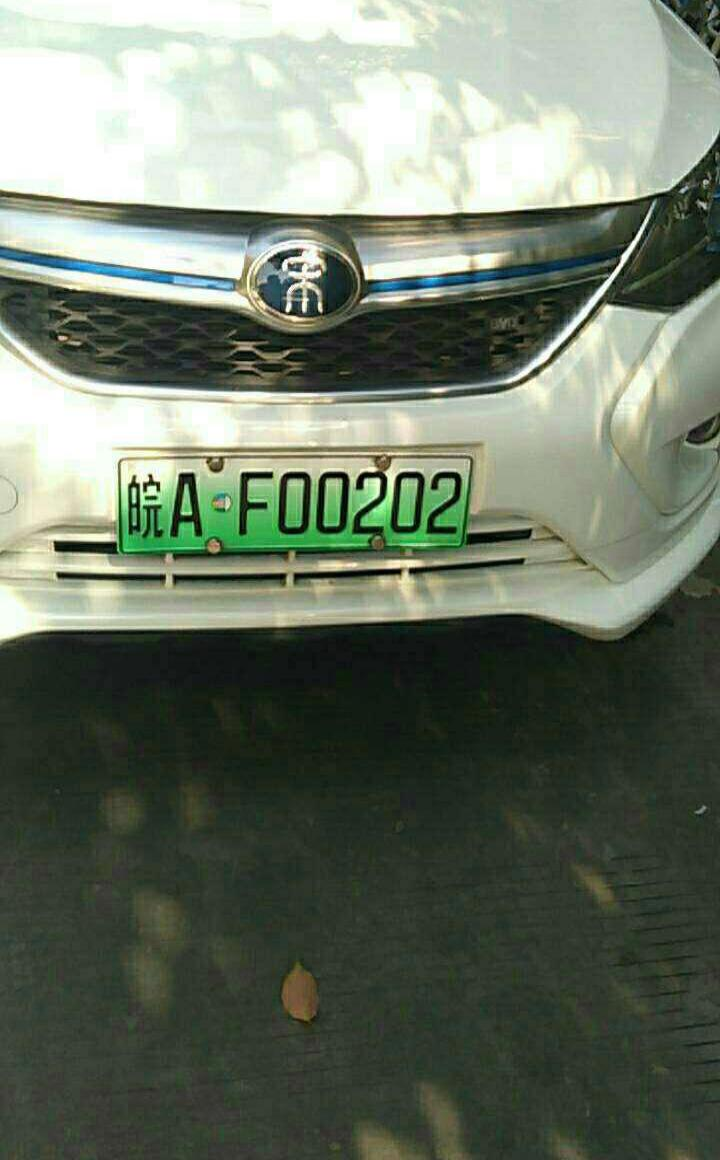car_id: (121, 459, 475, 551)
